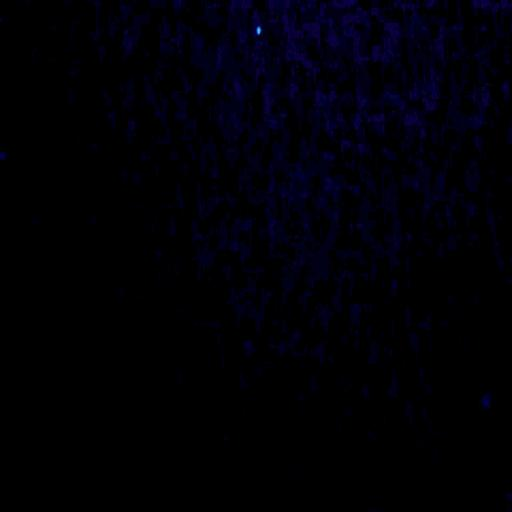object-detection-project: (256, 27, 261, 35)
